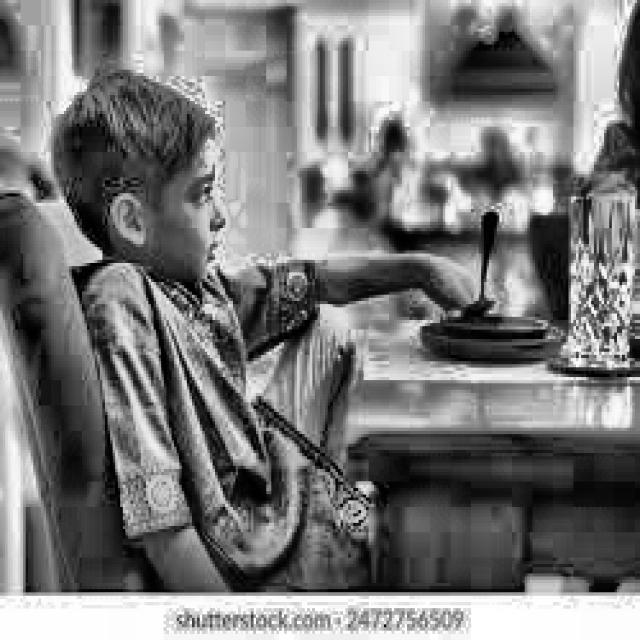Human: (35, 53, 521, 602)
